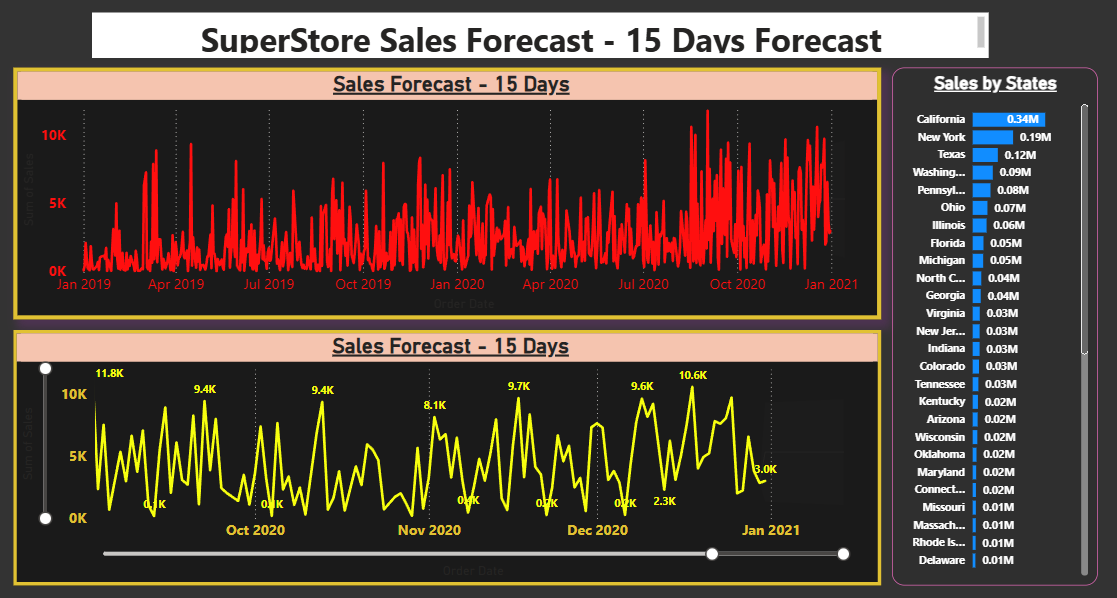

Layout of this report page (visuals, bound fields, positions):
{"tool":"powerbi","page":{"name":"Page 2","canvas":[1280,720],"ordinal":1},"visuals":[{"type":"lineChart","title":"Sales Forecast - 15 Days","fields":{"Y":["Sum(SuperStore_Sales_Dataset (1)csv (2).Sales)"],"Category":["SuperStore_Sales_Dataset (1)csv (2).Order Date"]},"box":[18.3,111.7,991.7,288.3],"z":0},{"type":"lineChart","title":"Sales Forecast - 15 Days","fields":{"Y":["Sum(SuperStore_Sales_Dataset (1)csv (2).Sales)"],"Category":["SuperStore_Sales_Dataset (1)csv (2).Order Date"]},"box":[18.3,411.7,991.7,291.7],"z":1000},{"type":"textbox","box":[108.3,48.3,1025,51.7],"z":2000},{"type":"clusteredBarChart","title":"Sales by States","fields":{"Category":["SuperStore_Sales_Dataset (1)csv (2).State","SuperStore_Sales_Dataset (1)csv (2).Ship Mode"],"Y":["Sum(SuperStore_Sales_Dataset (1)csv (2).Sales)"]},"box":[1023.3,111.7,235,591.7],"z":2001}]}

Visuals, with their boxes on the page's 1280x720 design canvas (x1, y1, x2, y2). These are canvas units, not pixel positions in the 1117x598 screenshot, which may show the page scaled, cropped or inside an application window:
"Sales Forecast - 15 Days" lineChart: (18, 112, 1010, 400)
"Sales Forecast - 15 Days" lineChart: (18, 412, 1010, 703)
textbox: (108, 48, 1133, 100)
"Sales by States" clusteredBarChart: (1023, 112, 1258, 703)
